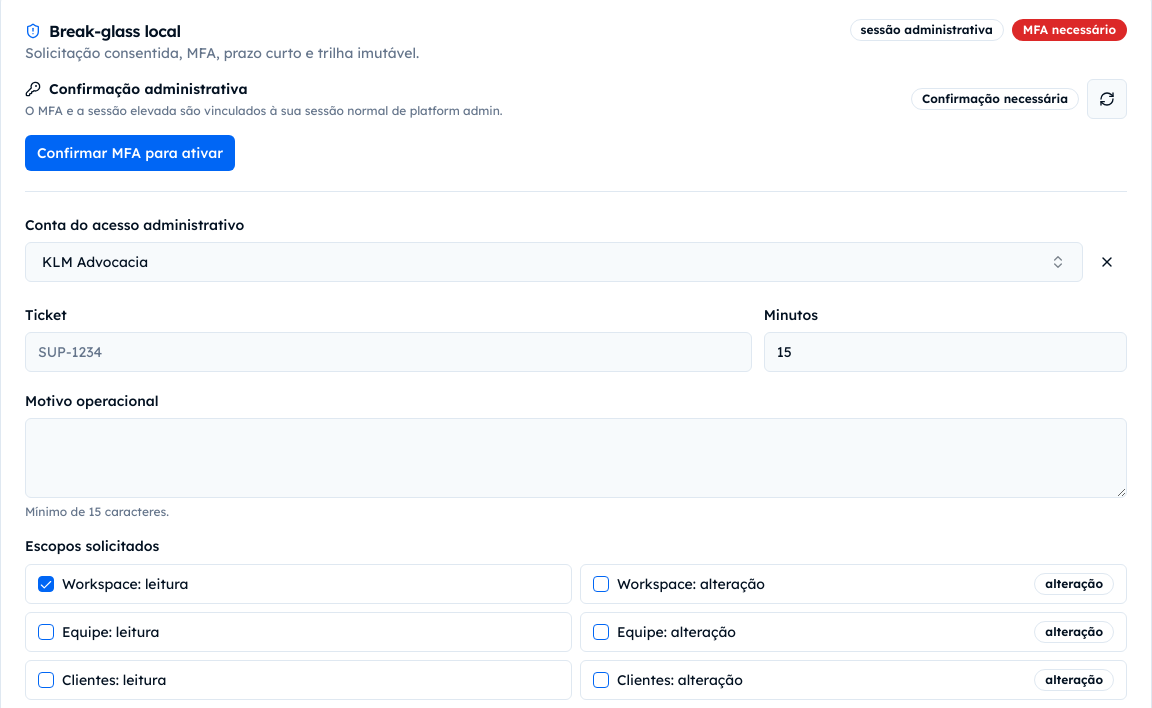
Test case: PlatformSupportAccessPanel › creates the MFA step-up natively and enables activation without workspace membership
Click the button "Confirmar MFA para ativar". click: (130, 153)
box: [25,135,235,171]
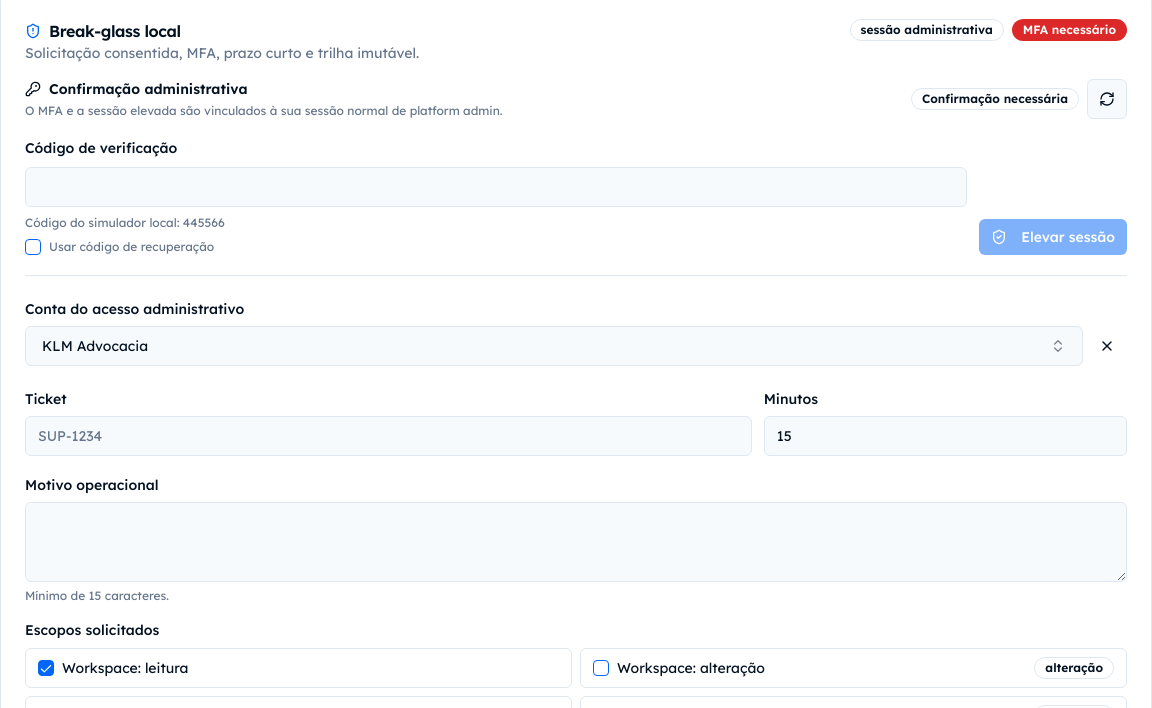
Type "445566" into the field labelled "Código de verificação". click: (496, 187)
box: [25,167,967,207]
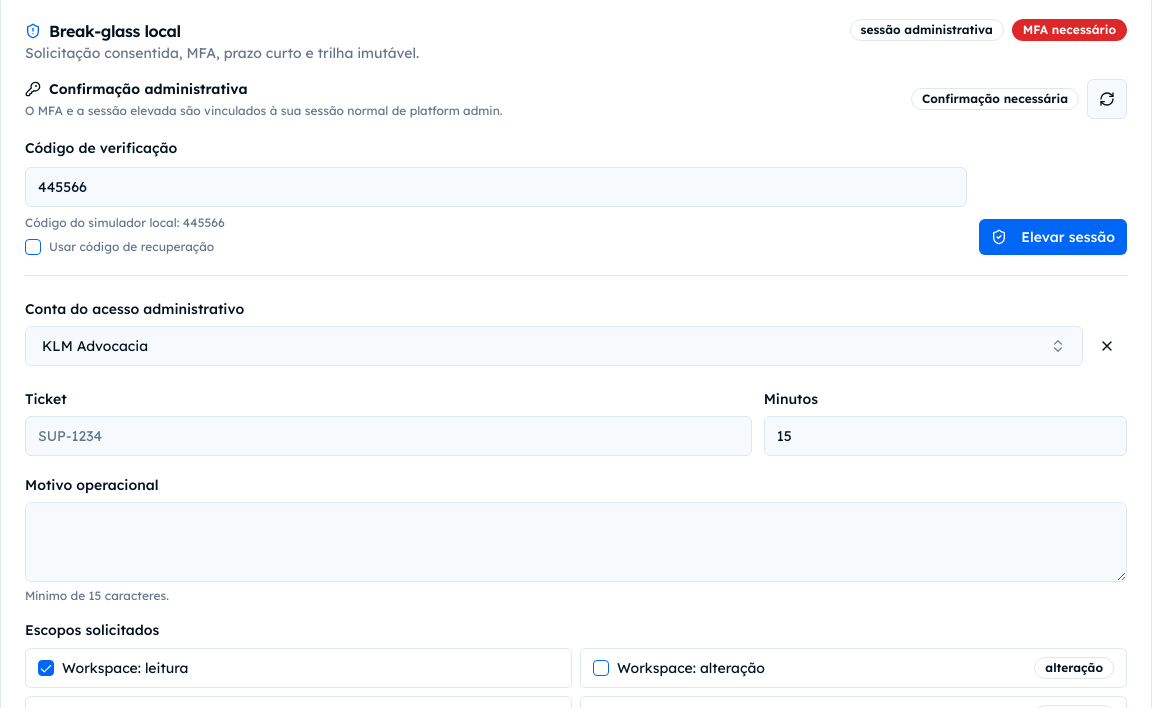
Click the button "Elevar sessão". click: (1053, 237)
box: [979,219,1127,255]
(page scrolled)
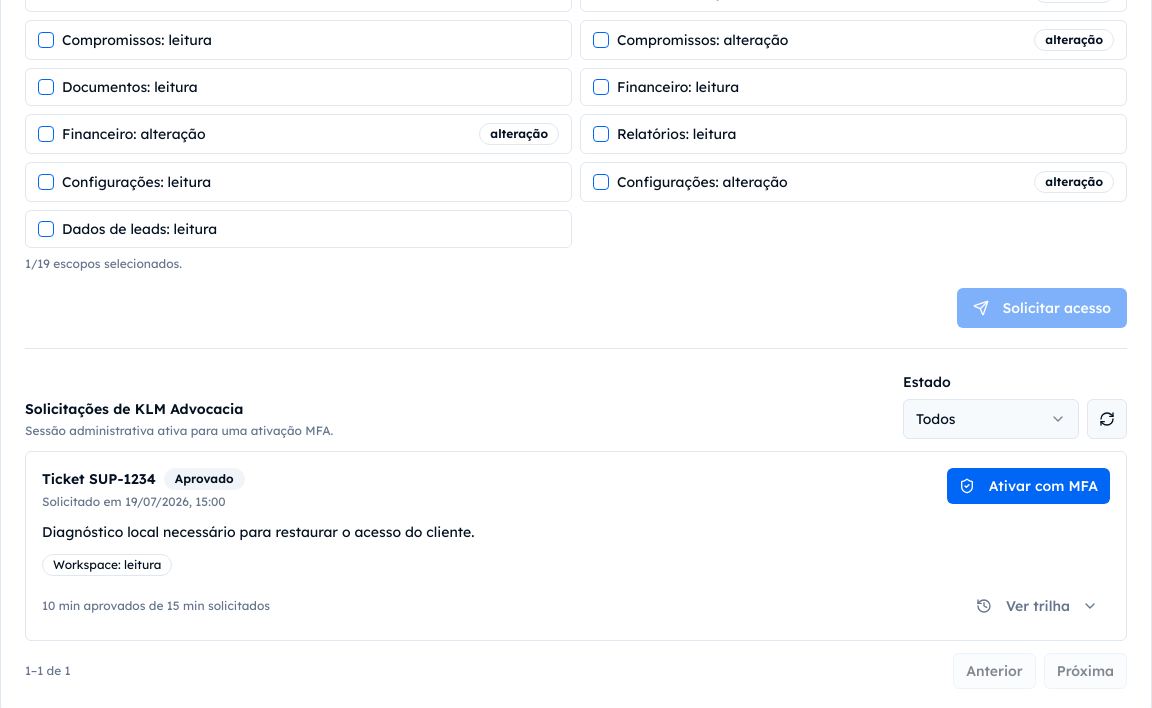
Now the button "Ativar com MFA" is enabled, box [947,468,1110,504]
